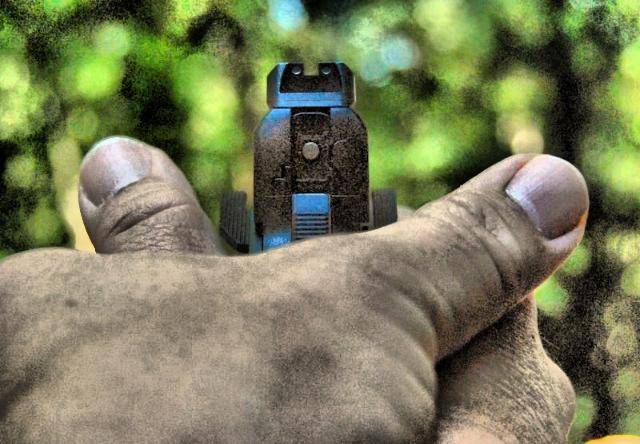pistol: (214, 46, 416, 264)
